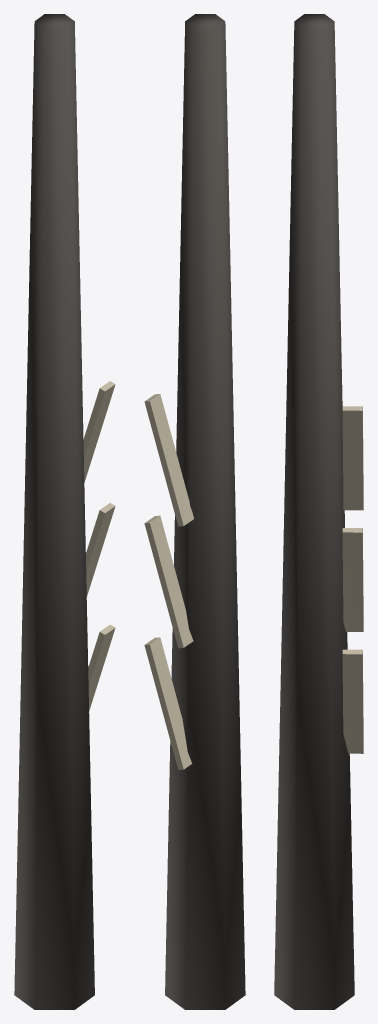
The model's file is antler_rub.glb.
3 views of the same model, side by side, from view 1: azimuth 30°, elevation 25°; view 2: azimuth 210°, elevation 25°; view 3: azimuth 330°, elevation 25° (orthographic).
Visible parts, largest first — view 1: antler_rub; view 2: antler_rub; view 3: antler_rub.
Part boxes in pixels (<box>): antler_rub: <box>14,14,115,1009</box>; antler_rub: <box>144,14,245,1009</box>; antler_rub: <box>274,14,363,1009</box>.
Bounding box in the file's own units: 0.1458 × 1.6 × 0.12.
